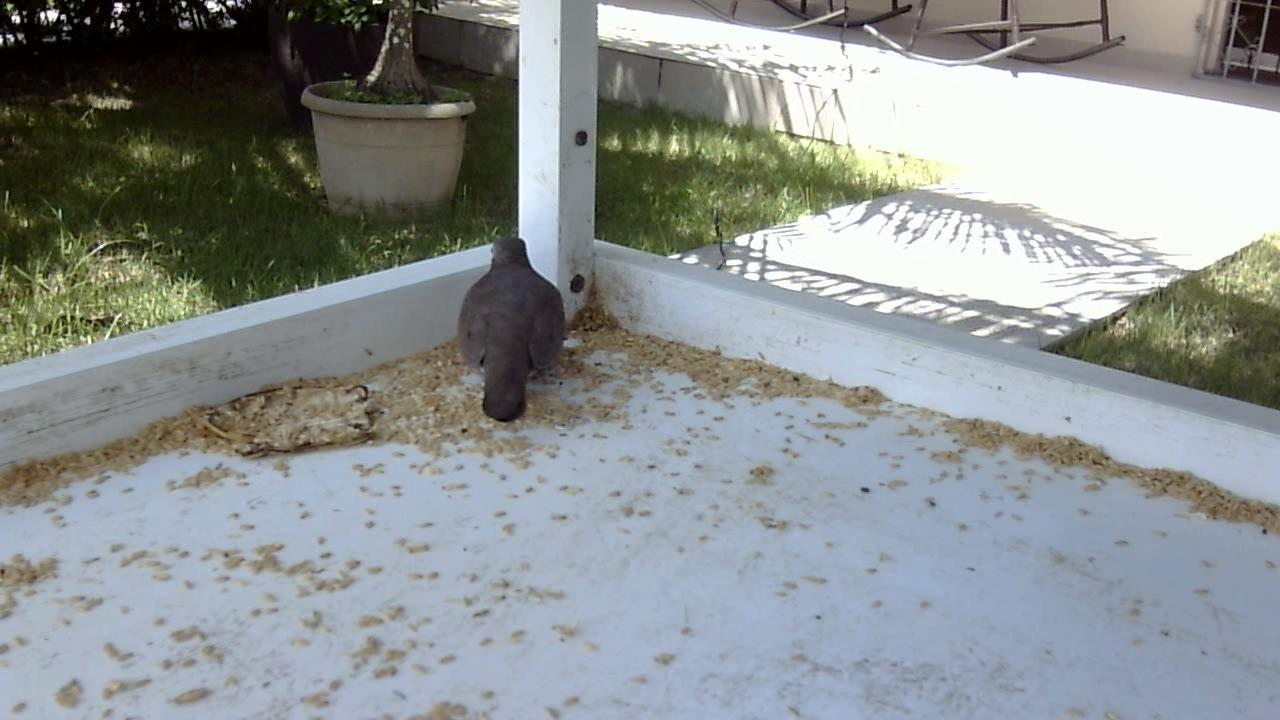rolinha: (447, 237, 573, 425)
